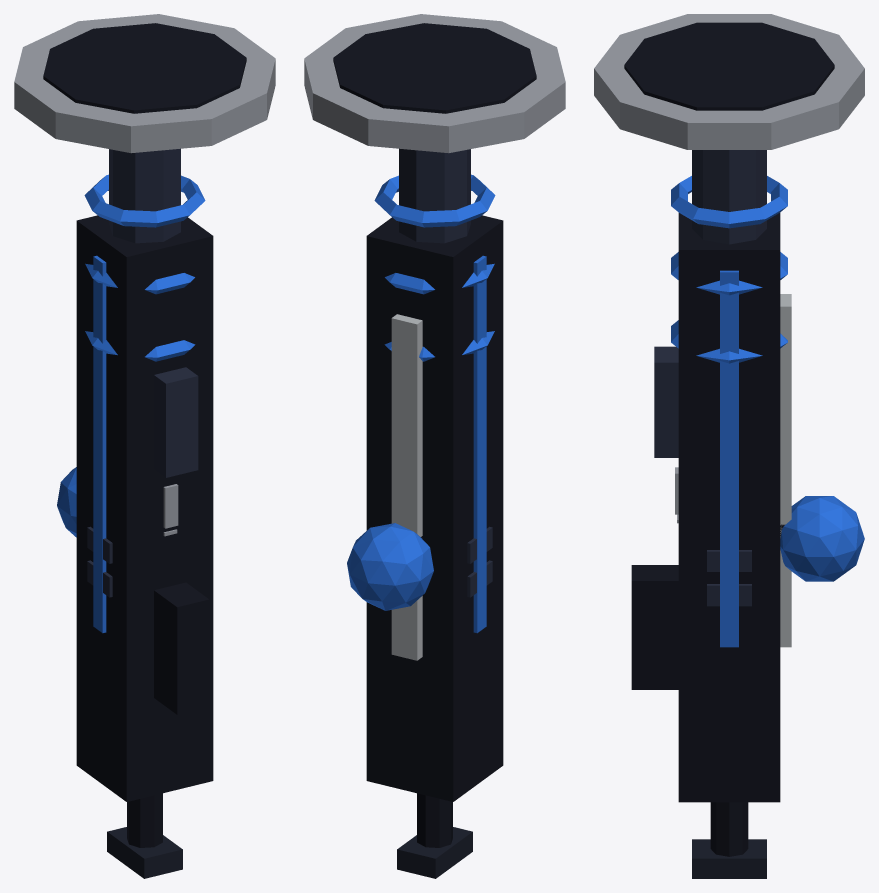
The model's file is gun_american_trooper.glb.
The picture shows the model from 3 angles, left to right: view 1: azimuth 30°, elevation 25°; view 2: azimuth 150°, elevation 25°; view 3: azimuth 270°, elevation 25°; orthographic projection.
Parts seen in each view (by area): view 1: gun_american_trooper; view 2: gun_american_trooper; view 3: gun_american_trooper.
Boxes of the visible parts, x1=… form: gun_american_trooper: x1=14, y1=14, x2=275, y2=878; gun_american_trooper: x1=304, y1=14, x2=565, y2=878; gun_american_trooper: x1=594, y1=14, x2=864, y2=878.
Size of the model in its own units: 0.3424 by 1.18 by 0.36.
